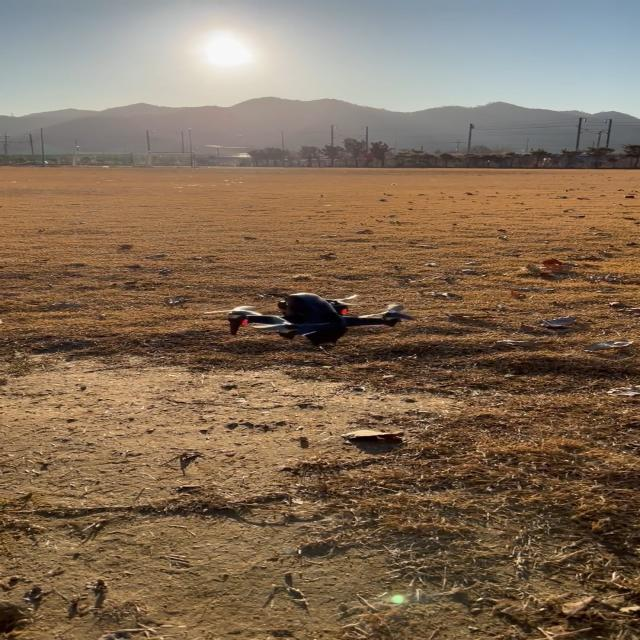drone: (202, 291, 415, 350)
